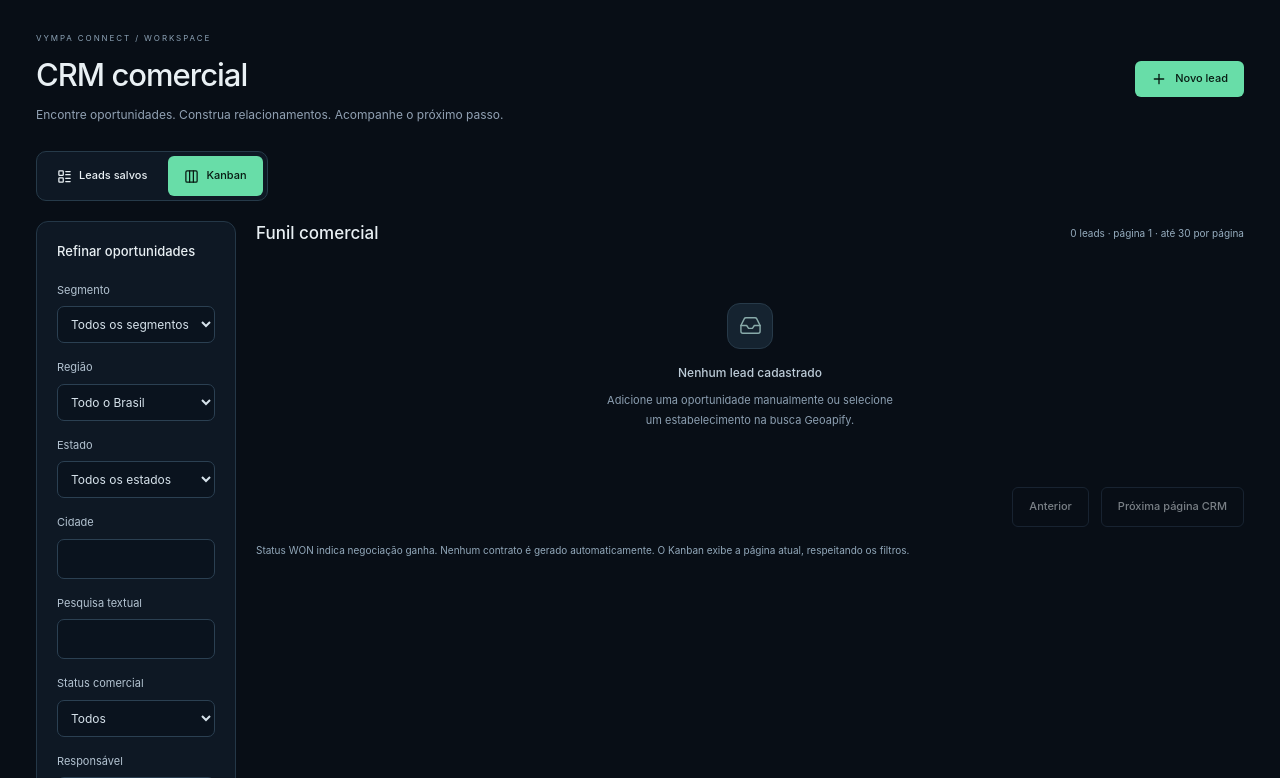
separa as visualizações e não consulta Places no CRM
Check: the heading "Nenhum lead cadastrado" is shown, box [678, 364, 822, 382]
Check: the button "Kanban" is shown, box [168, 156, 263, 196]
Click the button "Leads salvos": (102, 176) [41, 156, 163, 196]
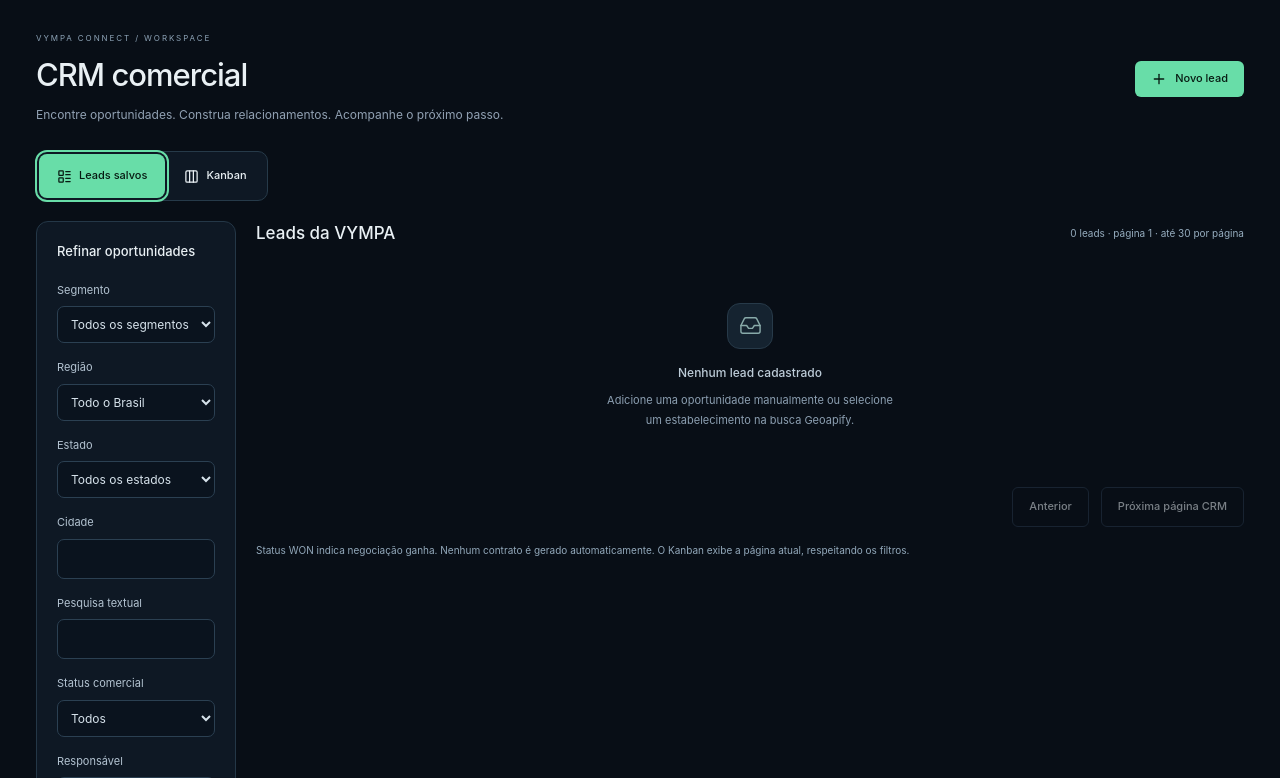
Check: the heading "Leads da VYMPA" is shown, box [256, 221, 395, 247]
